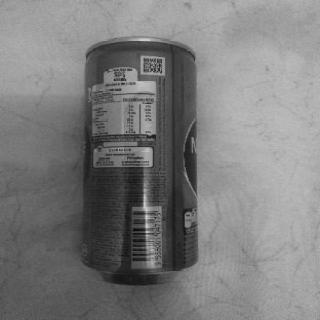alumunium_can: (81, 39, 202, 288)
